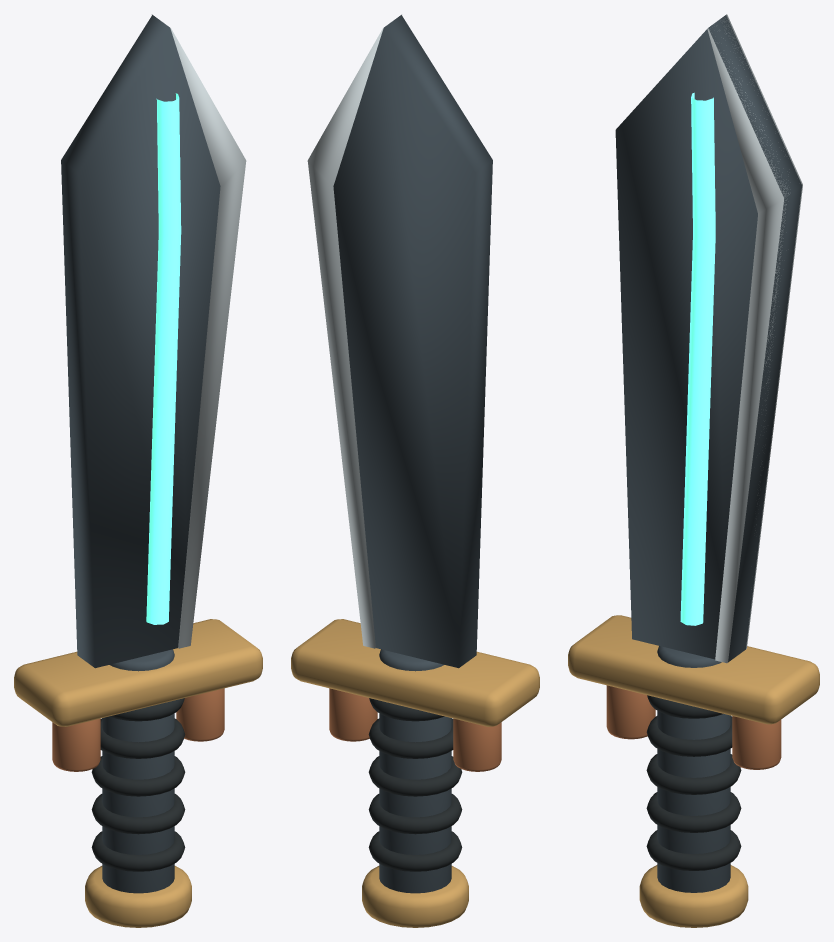
File: powered_twins.t3.glb
3 renders of one model, left to right at view 1: azimuth 30°, elevation 25°; view 2: azimuth 150°, elevation 25°; view 3: azimuth 330°, elevation 25°, orthographic.
Parts seen in each view (by area): view 1: weapon_right__forged_bluelead_steel__protected, weapon_right__worn_warm_brass__protected, weapon_right__mint_reticle__protected, weapon_right__honed_steel_edge__protected, weapon_right__charcoal_rubber__protected, weapon_right__burnished_copper__protected; view 2: weapon_right__forged_bluelead_steel__protected, weapon_right__worn_warm_brass__protected, weapon_right__honed_steel_edge__protected, weapon_right__charcoal_rubber__protected, weapon_right__burnished_copper__protected; view 3: weapon_right__forged_bluelead_steel__protected, weapon_right__worn_warm_brass__protected, weapon_right__honed_steel_edge__protected, weapon_right__mint_reticle__protected, weapon_right__charcoal_rubber__protected, weapon_right__burnished_copper__protected.
Boxes of the visible parts, <box> form: weapon_right__forged_bluelead_steel__protected: <box>61,15,220,893</box>; weapon_right__worn_warm_brass__protected: <box>14,619,262,927</box>; weapon_right__mint_reticle__protected: <box>146,93,181,624</box>; weapon_right__honed_steel_edge__protected: <box>151,14,246,648</box>; weapon_right__charcoal_rubber__protected: <box>91,698,185,871</box>; weapon_right__burnished_copper__protected: <box>52,688,224,771</box>; weapon_right__forged_bluelead_steel__protected: <box>333,15,492,893</box>; weapon_right__worn_warm_brass__protected: <box>291,619,539,927</box>; weapon_right__honed_steel_edge__protected: <box>307,14,402,648</box>; weapon_right__charcoal_rubber__protected: <box>368,698,462,871</box>; weapon_right__burnished_copper__protected: <box>329,688,501,771</box>; weapon_right__forged_bluelead_steel__protected: <box>615,15,802,892</box>; weapon_right__worn_warm_brass__protected: <box>568,615,819,927</box>; weapon_right__honed_steel_edge__protected: <box>707,14,802,663</box>; weapon_right__mint_reticle__protected: <box>680,92,715,625</box>; weapon_right__charcoal_rubber__protected: <box>646,695,741,870</box>; weapon_right__burnished_copper__protected: <box>606,685,781,769</box>.
Size of the model in its own units: 0.32 by 1.29 by 0.142.
